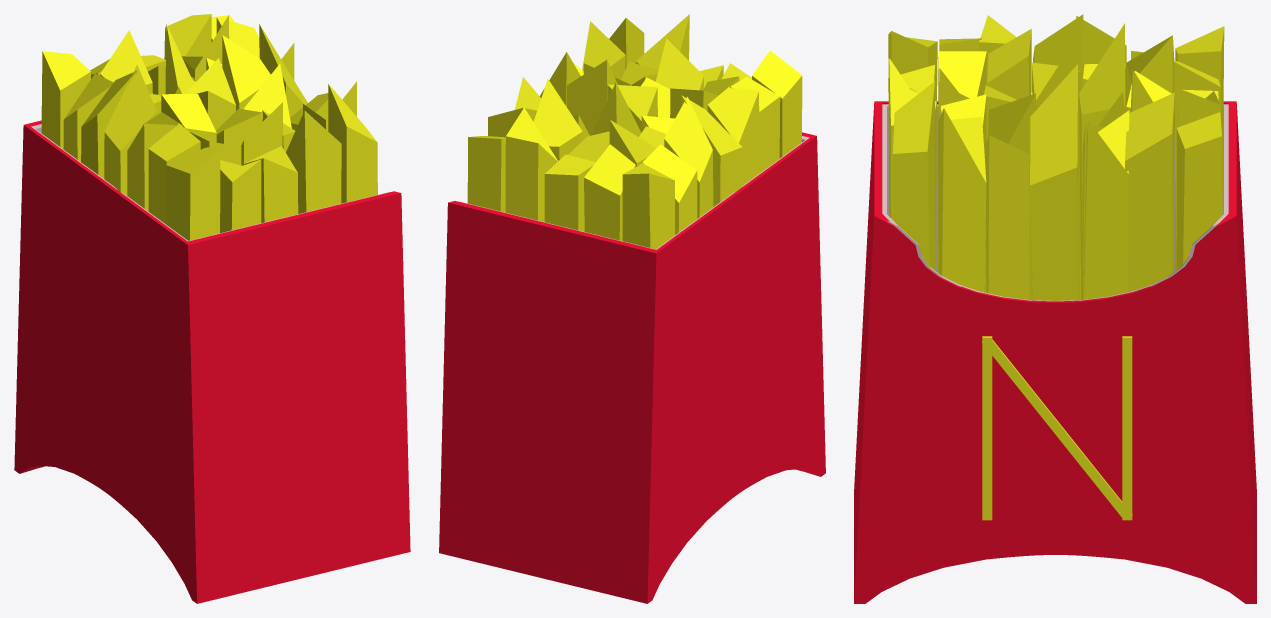
The model's file is fries.glb.
3 views of the same model, side by side, from view 1: azimuth 30°, elevation 25°; view 2: azimuth 150°, elevation 25°; view 3: azimuth 270°, elevation 25° (orthographic). The views are drawn at different scales.
Parts seen in each view (by area): view 1: Outerbox, FrenchFry, InnerBox; view 2: Outerbox, FrenchFry; view 3: Outerbox, FrenchFry, Logo, InnerBox.
Part boxes in pixels (<box>): Outerbox: <box>14,120,410,603</box>; FrenchFry: <box>41,14,377,240</box>; InnerBox: <box>31,124,389,241</box>; Outerbox: <box>439,132,825,603</box>; FrenchFry: <box>467,14,802,249</box>; Outerbox: <box>854,101,1256,603</box>; FrenchFry: <box>888,14,1224,300</box>; Logo: <box>982,336,1132,520</box>; InnerBox: <box>882,104,1228,301</box>.
Size of the model in its own units: 1.37 by 2.83 by 2.
